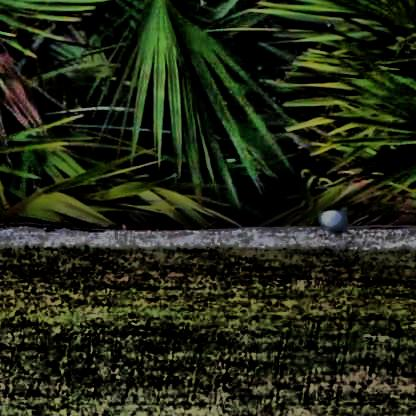golfball: (314, 207, 347, 235)
